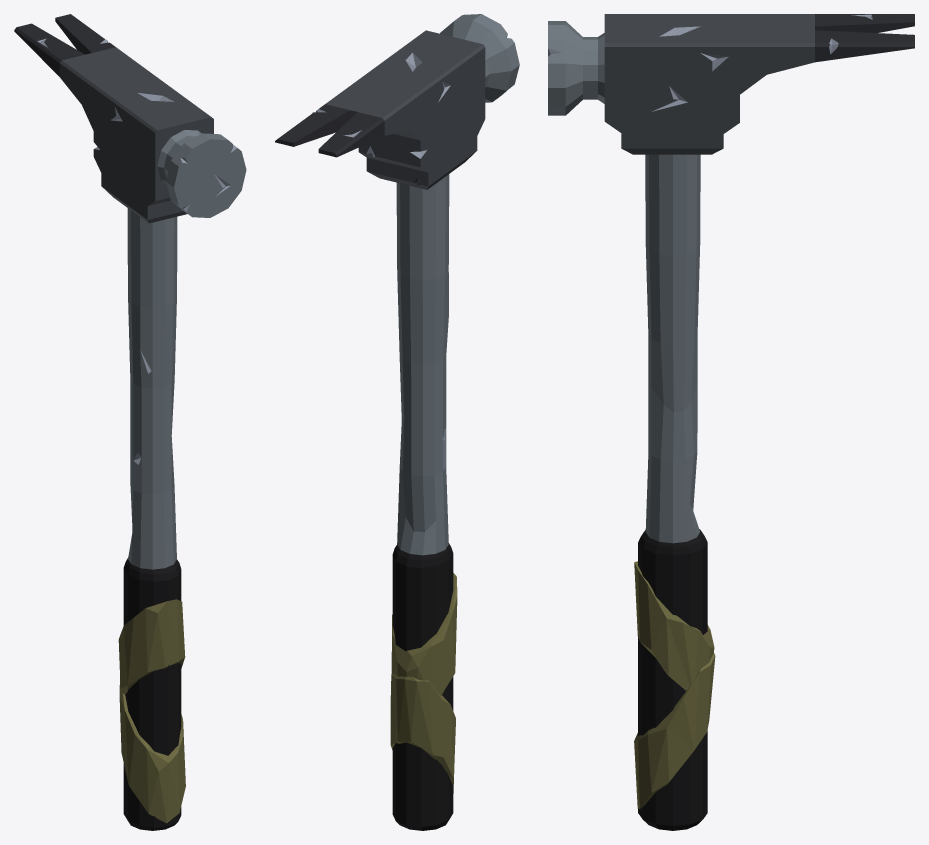
Rendered from hammer.glb.
The picture shows the model from 3 angles, left to right: view 1: azimuth 30°, elevation 25°; view 2: azimuth 150°, elevation 25°; view 3: azimuth 270°, elevation 25°; orthographic projection. The views are drawn at different scales.
Parts seen in each view (by area): view 1: SM_Hammer; view 2: SM_Hammer; view 3: SM_Hammer.
Part boxes in pixels (x1,y1,x2,y2): SM_Hammer: [14, 14, 246, 830]; SM_Hammer: [275, 14, 519, 830]; SM_Hammer: [548, 14, 914, 830].
Bounding box in the file's own units: 0.0547 × 0.5209 × 0.2178.
1 material, 1 textured.
